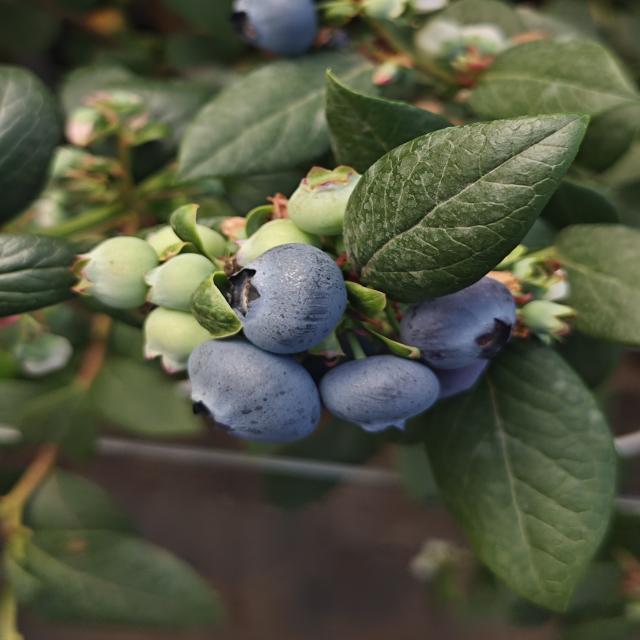ripe: (184, 338, 323, 444), (223, 241, 350, 356), (397, 275, 519, 372), (318, 354, 442, 434)
